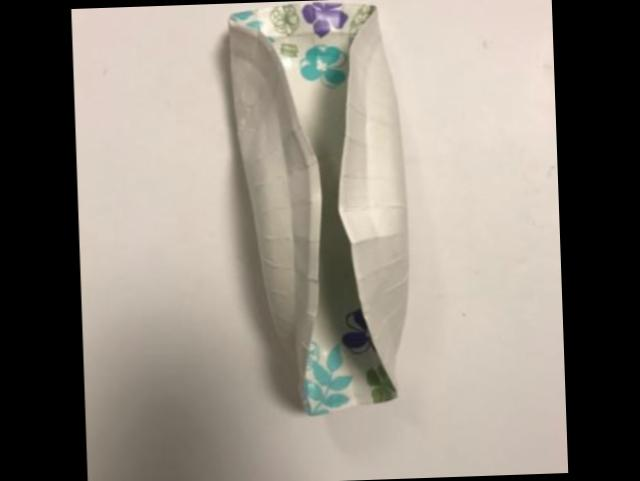cardboard paper: (220, 0, 405, 412)
